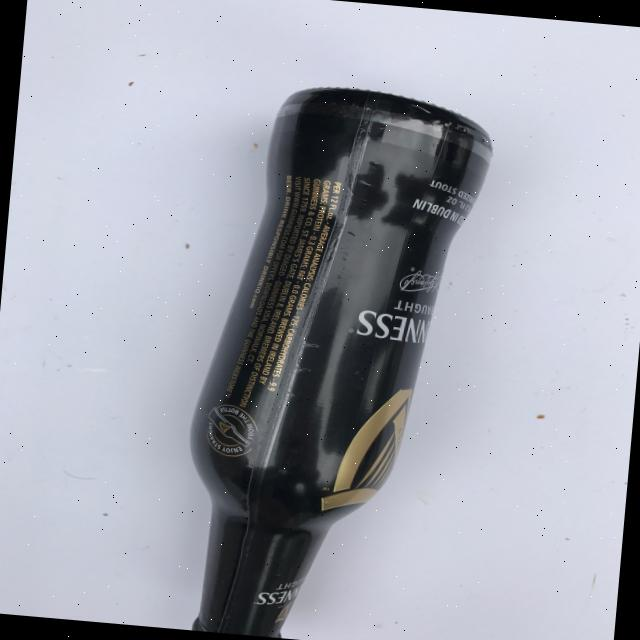glass: (171, 75, 498, 640)
